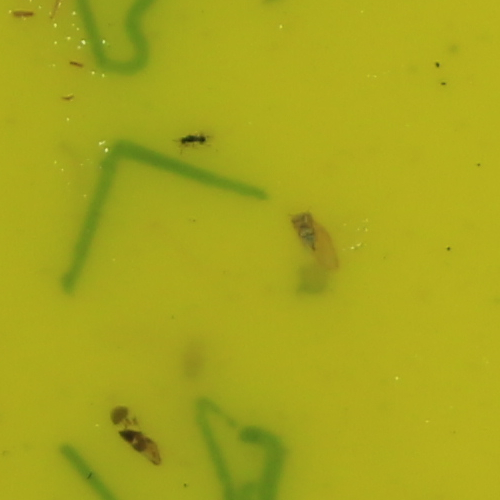psylla: (289, 208, 325, 253)
